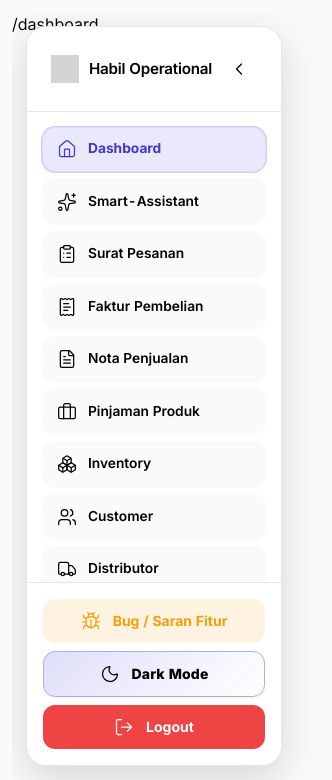
Test: Sidebar shell smoke › navigates between shell routes without DB writes
Expected: the text with test id "current-path" reads "/dashboard", [12,14,98,34]
Click the button "Smart-Assistant": (154, 202) [41,178,267,225]
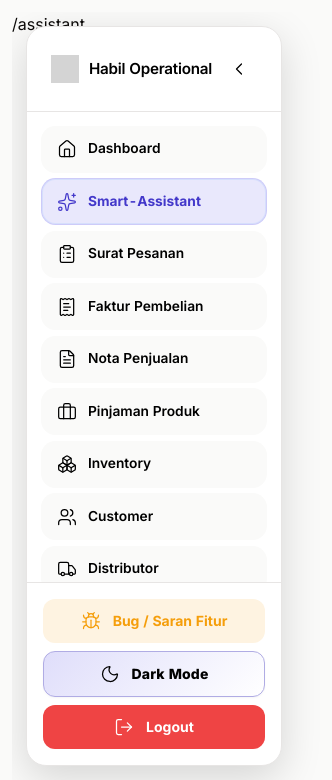
Expected: the text with test id "current-path" reads "/assistant", [12,14,85,34]
Click the button "Inventory": (154, 464) [41,441,267,488]
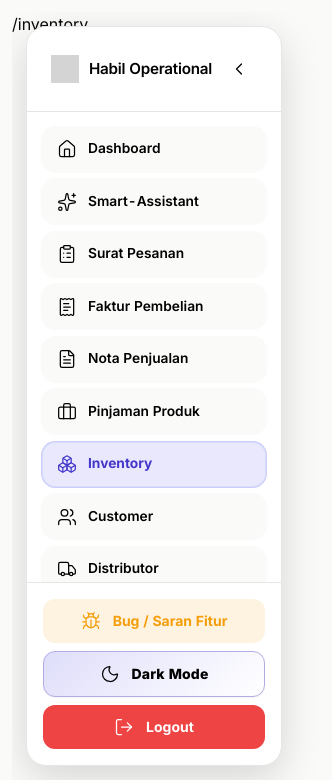
Expected: the text with test id "current-path" reads "/inventory", [12,14,88,34]
